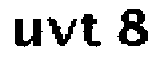8: (114, 8, 150, 48)
t: (78, 12, 103, 49)
u: (12, 16, 43, 50)
v: (44, 16, 78, 48)
